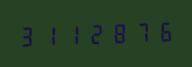eight: (105, 19, 126, 45)
one: (39, 21, 60, 48), (61, 21, 82, 47)
seven: (127, 18, 148, 45)
six: (149, 18, 170, 44)
three: (17, 22, 38, 48)
two: (83, 20, 104, 46)
